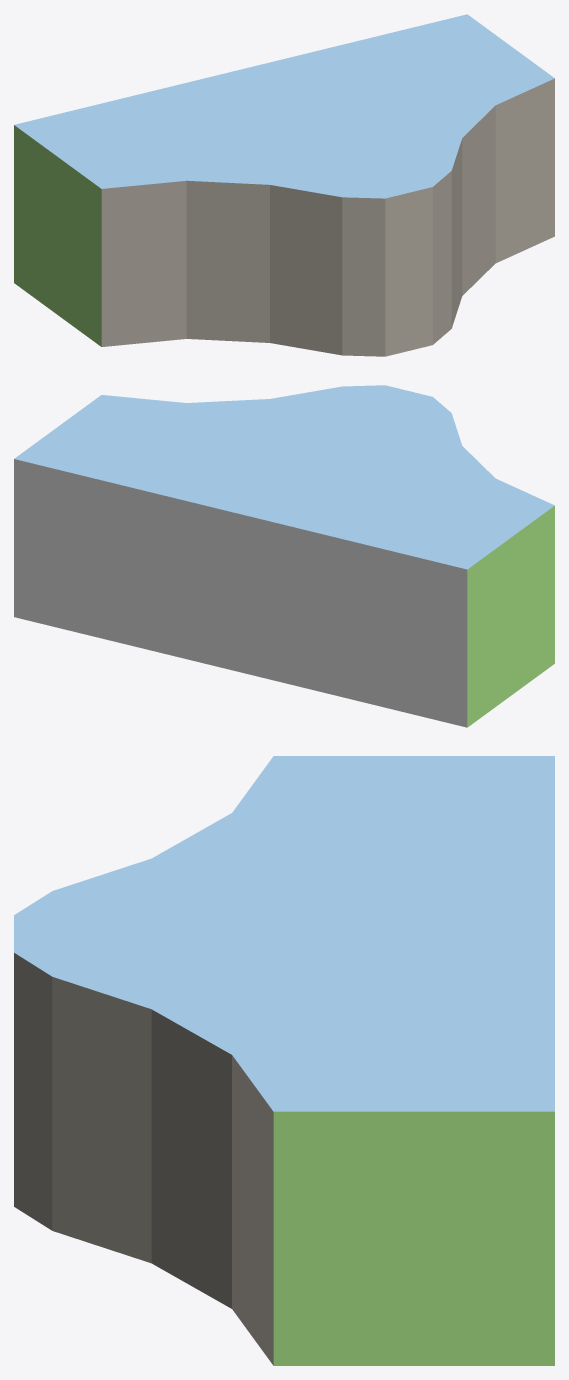
File: Wall_Straight_Deformed_Convex_3x3_Mid.glb
The picture shows the model from 3 angles, top to bottom: view 1: azimuth 30°, elevation 25°; view 2: azimuth 150°, elevation 25°; view 3: azimuth 270°, elevation 25°; orthographic projection. The views are drawn at different scales.
Parts seen in each view (by area): view 1: Wall_Straight_Deformed_Convex_3x3_Mid; view 2: Wall_Straight_Deformed_Convex_3x3_Mid; view 3: Wall_Straight_Deformed_Convex_3x3_Mid.
Boxes of the visible parts, bbox=[...] form: Wall_Straight_Deformed_Convex_3x3_Mid: bbox=[14, 14, 554, 356]; Wall_Straight_Deformed_Convex_3x3_Mid: bbox=[14, 385, 554, 727]; Wall_Straight_Deformed_Convex_3x3_Mid: bbox=[14, 756, 554, 1365].
Bounding box in the file's own units: 300 × 100 × 193.
